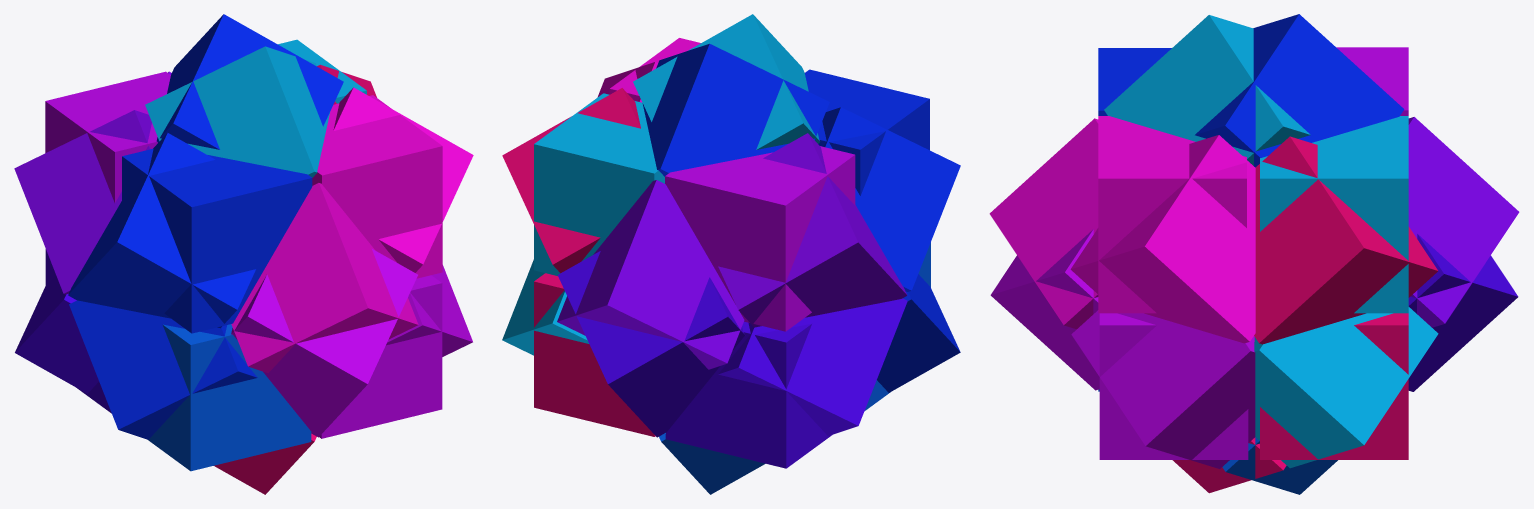
Rendered from Multicube.fbx.
The picture shows the model from 3 angles, left to right: view 1: azimuth 30°, elevation 25°; view 2: azimuth 150°, elevation 25°; view 3: azimuth 270°, elevation 25°; orthographic projection. The views are drawn at different scales.
Visible parts, largest first — view 1: Cube_cell.001, Cube_cell.013, Cube_cell.005, Cube_cell.015, Cube_cell.016, Cube_cell, Cube_cell.009, Cube_cell.020, Cube_cell.011, Cube_cell.004, Cube_cell.017, Cube_cell.003 (+6 smaller); view 2: Cube_cell.003, Cube_cell.019, Cube_cell.017, Cube_cell.007, Cube_cell.011, Cube_cell.018, Cube_cell.002, Cube_cell.010, Cube_cell.016, Cube_cell.006, Cube_cell.015, Cube_cell.001 (+7 smaller); view 3: Cube_cell.021, Cube_cell.014, Cube_cell.012, Cube_cell.023, Cube_cell.017, Cube_cell.015, Cube_cell.005, Cube_cell.007, Cube_cell.019, Cube_cell.013, Cube_cell.004, Cube_cell.006 (+6 smaller).
Boxes of the visible parts, bbox=[...] form: Cube_cell.001: bbox=[122, 148, 312, 333]; Cube_cell.013: bbox=[231, 183, 418, 373]; Cube_cell.005: bbox=[312, 95, 442, 278]; Cube_cell.015: bbox=[145, 46, 329, 177]; Cube_cell.016: bbox=[68, 133, 255, 328]; Cube_cell: bbox=[148, 324, 311, 471]; Cube_cell.009: bbox=[69, 300, 257, 439]; Cube_cell.020: bbox=[231, 249, 417, 437]; Cube_cell.011: bbox=[14, 110, 151, 294]; Cube_cell.004: bbox=[319, 275, 442, 438]; Cube_cell.017: bbox=[156, 14, 343, 149]; Cube_cell.003: bbox=[45, 71, 170, 202]; Cube_cell.003: bbox=[665, 146, 855, 331]; Cube_cell.019: bbox=[557, 180, 744, 369]; Cube_cell.017: bbox=[642, 43, 829, 176]; Cube_cell.007: bbox=[534, 93, 664, 275]; Cube_cell.011: bbox=[718, 133, 907, 327]; Cube_cell.018: bbox=[718, 298, 907, 435]; Cube_cell.002: bbox=[665, 321, 831, 468]; Cube_cell.010: bbox=[557, 251, 744, 437]; Cube_cell.016: bbox=[822, 107, 960, 291]; Cube_cell.006: bbox=[534, 273, 655, 436]; Cube_cell.015: bbox=[633, 14, 820, 149]; Cube_cell.001: bbox=[805, 69, 929, 195]; Cube_cell.021: bbox=[1070, 135, 1255, 343]; Cube_cell.014: bbox=[1254, 136, 1437, 344]; Cube_cell.012: bbox=[1071, 310, 1255, 468]; Cube_cell.023: bbox=[1254, 307, 1438, 468]; Cube_cell.017: bbox=[1195, 14, 1404, 167]; Cube_cell.015: bbox=[1104, 15, 1310, 165]; Cube_cell.005: bbox=[1098, 116, 1246, 313]; Cube_cell.007: bbox=[1260, 116, 1408, 313]; Cube_cell.019: bbox=[1408, 117, 1519, 327]; Cube_cell.013: bbox=[989, 118, 1098, 329]; Cube_cell.004: bbox=[1099, 313, 1248, 459]; Cube_cell.006: bbox=[1260, 313, 1408, 459].
Bounding box in the file's own units: 272 × 329 × 328.
